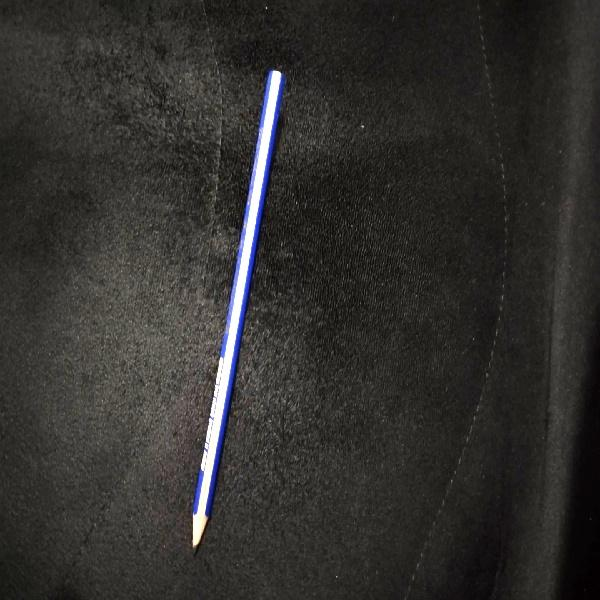pencil: (185, 67, 288, 553)
